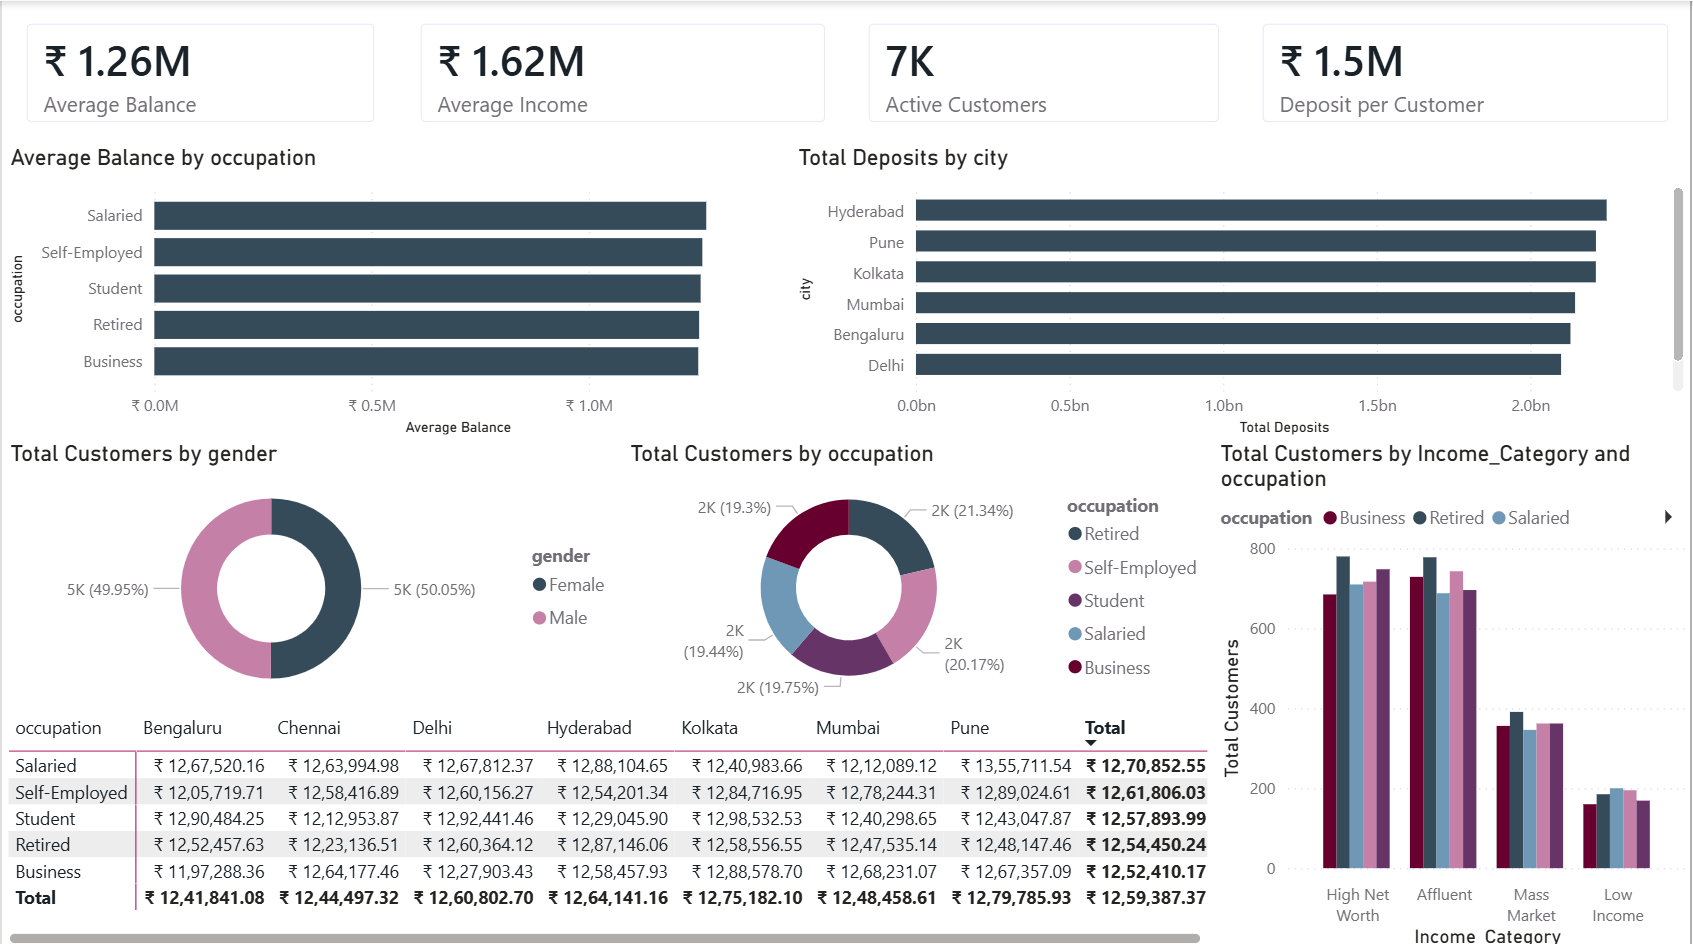

This screenshot's page, from the dashboard's own definition file:
{"tool":"powerbi","page":{"name":"Customer & Deposit Analytics","canvas":[1280,720],"ordinal":1},"visuals":[{"type":"cardVisual","fields":{"Data":["accounts.Average Balance"]},"box":[1.5,0,298.8,109.2],"z":0},{"type":"cardVisual","fields":{"Data":["accounts.Average Income"]},"box":[300.3,0,341.2,109.2],"z":1000},{"type":"cardVisual","fields":{"Data":["accounts.Active Customers"]},"box":[640,0,300.3,109.2],"z":2000},{"type":"cardVisual","fields":{"Data":["accounts.Deposit per Customer"]},"box":[938.8,0,342.7,109.2],"z":3000},{"type":"clusteredBarChart","fields":{"Category":["customers.occupation"],"Y":["accounts.Average Balance"]},"box":[1.5,109.2,599.1,224.5],"z":4000},{"type":"barChart","fields":{"Category":["customers.city"],"Y":["accounts.Total Deposits"]},"box":[599.1,109.2,680.9,224.5],"z":5000},{"type":"donutChart","fields":{"Category":["customers.occupation"],"Y":["accounts.Total Customers"]},"box":[471.7,333.6,448.9,203.2],"z":6000},{"type":"donutChart","fields":{"Category":["customers.gender"],"Y":["accounts.Total Customers"]},"box":[1.5,333.6,470.1,204.7],"z":7000},{"type":"pivotTable","fields":{"Rows":["customers.occupation"],"Columns":["customers.city"],"Values":["accounts.Average Balance"]},"box":[0,535.4,919.1,185],"z":8000},{"type":"clusteredColumnChart","fields":{"Series":["customers.occupation"],"Y":["accounts.Total Customers"],"Category":["customers.Income_Category"]},"box":[919.1,333.6,364,388.2],"z":9000}]}

Visuals, with their boxes in screenshot pixels (x1, y1, x2, y2), scaled from the page's 1280x720 canvas onto the 1693x944 screenshot:
cardVisual - accounts.Average Balance: 2/0/397/143
cardVisual - accounts.Average Income: 397/0/848/143
cardVisual - accounts.Active Customers: 846/0/1244/143
cardVisual - accounts.Deposit per Customer: 1242/0/1692/143
clusteredBarChart - customers.occupation x accounts.Average Balance: 2/143/794/438
barChart - customers.city x accounts.Total Deposits: 792/143/1692/438
donutChart - customers.occupation x accounts.Total Customers: 624/437/1218/704
donutChart - customers.gender x accounts.Total Customers: 2/437/624/706
pivotTable - customers.occupation x customers.city: 0/702/1216/943
clusteredColumnChart - customers.occupation x accounts.Total Customers: 1216/437/1692/943
